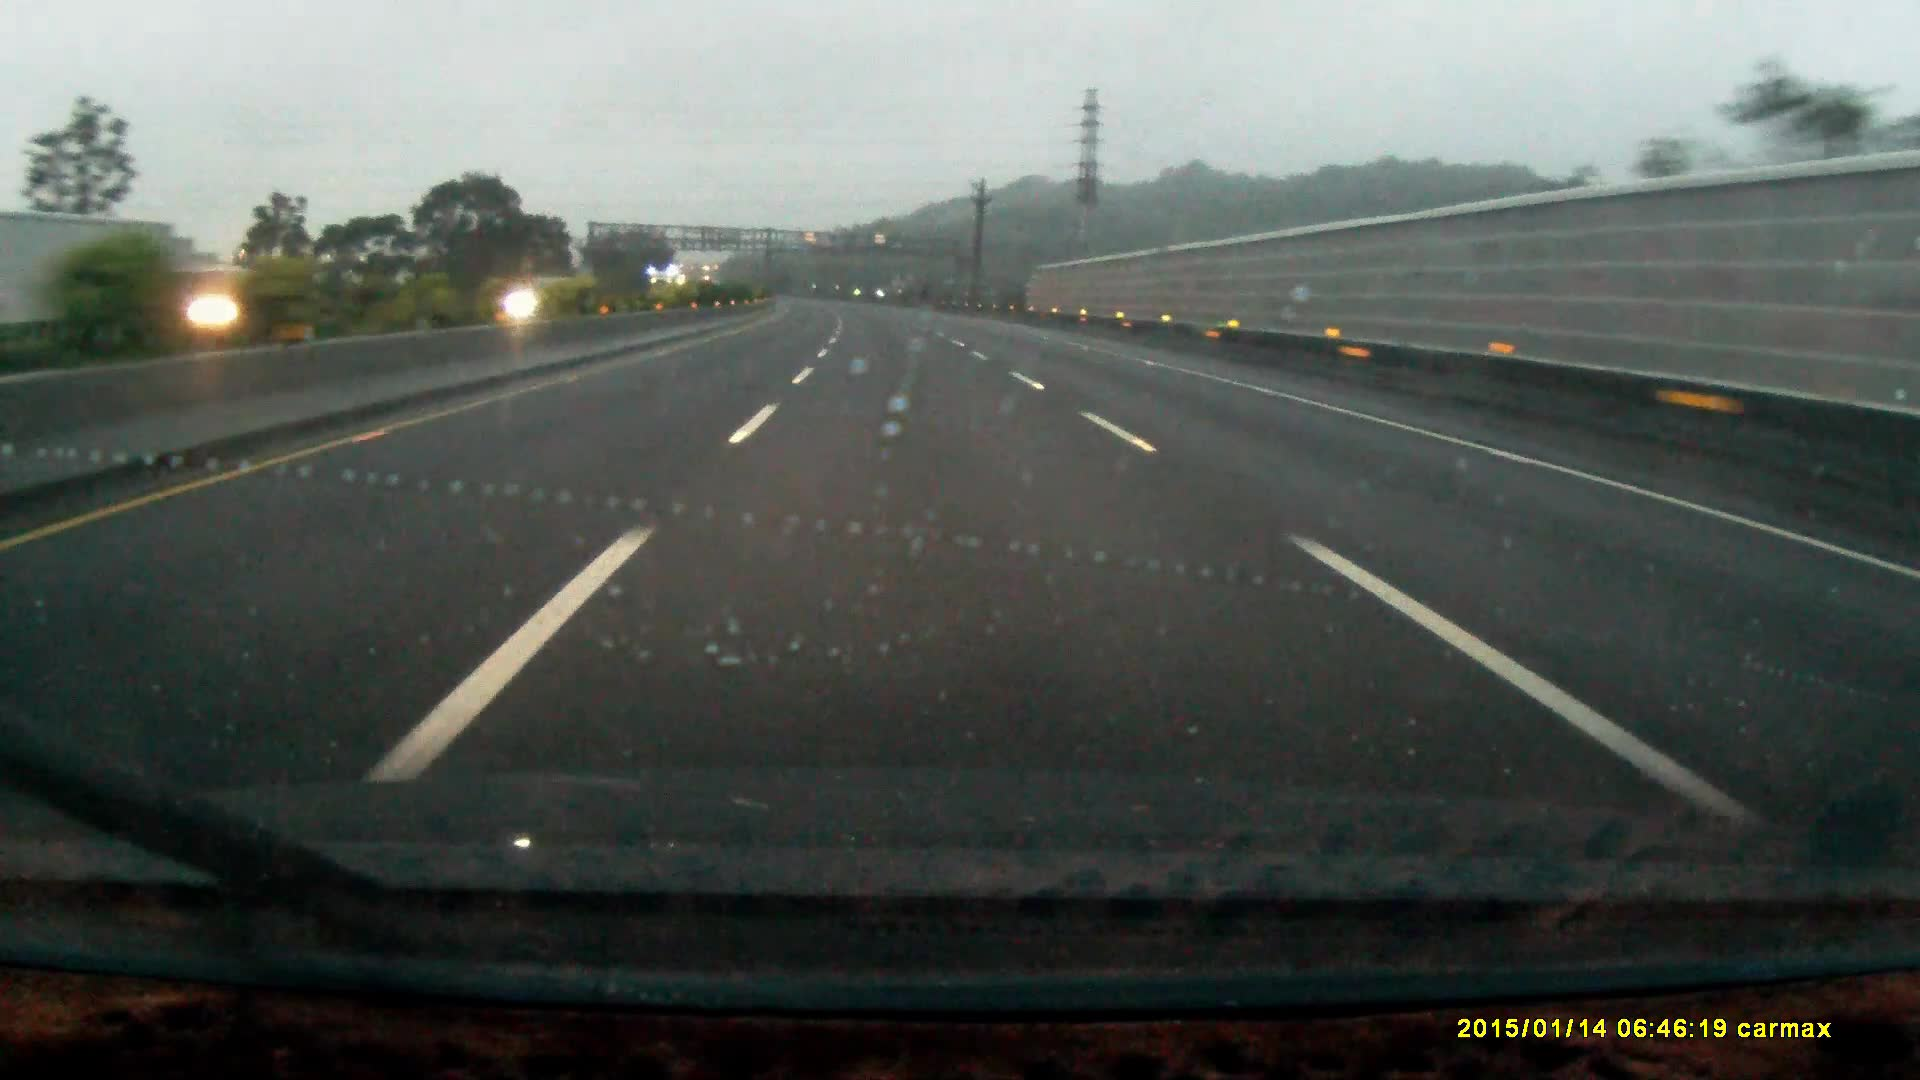vehicle: (649, 265, 690, 305)
